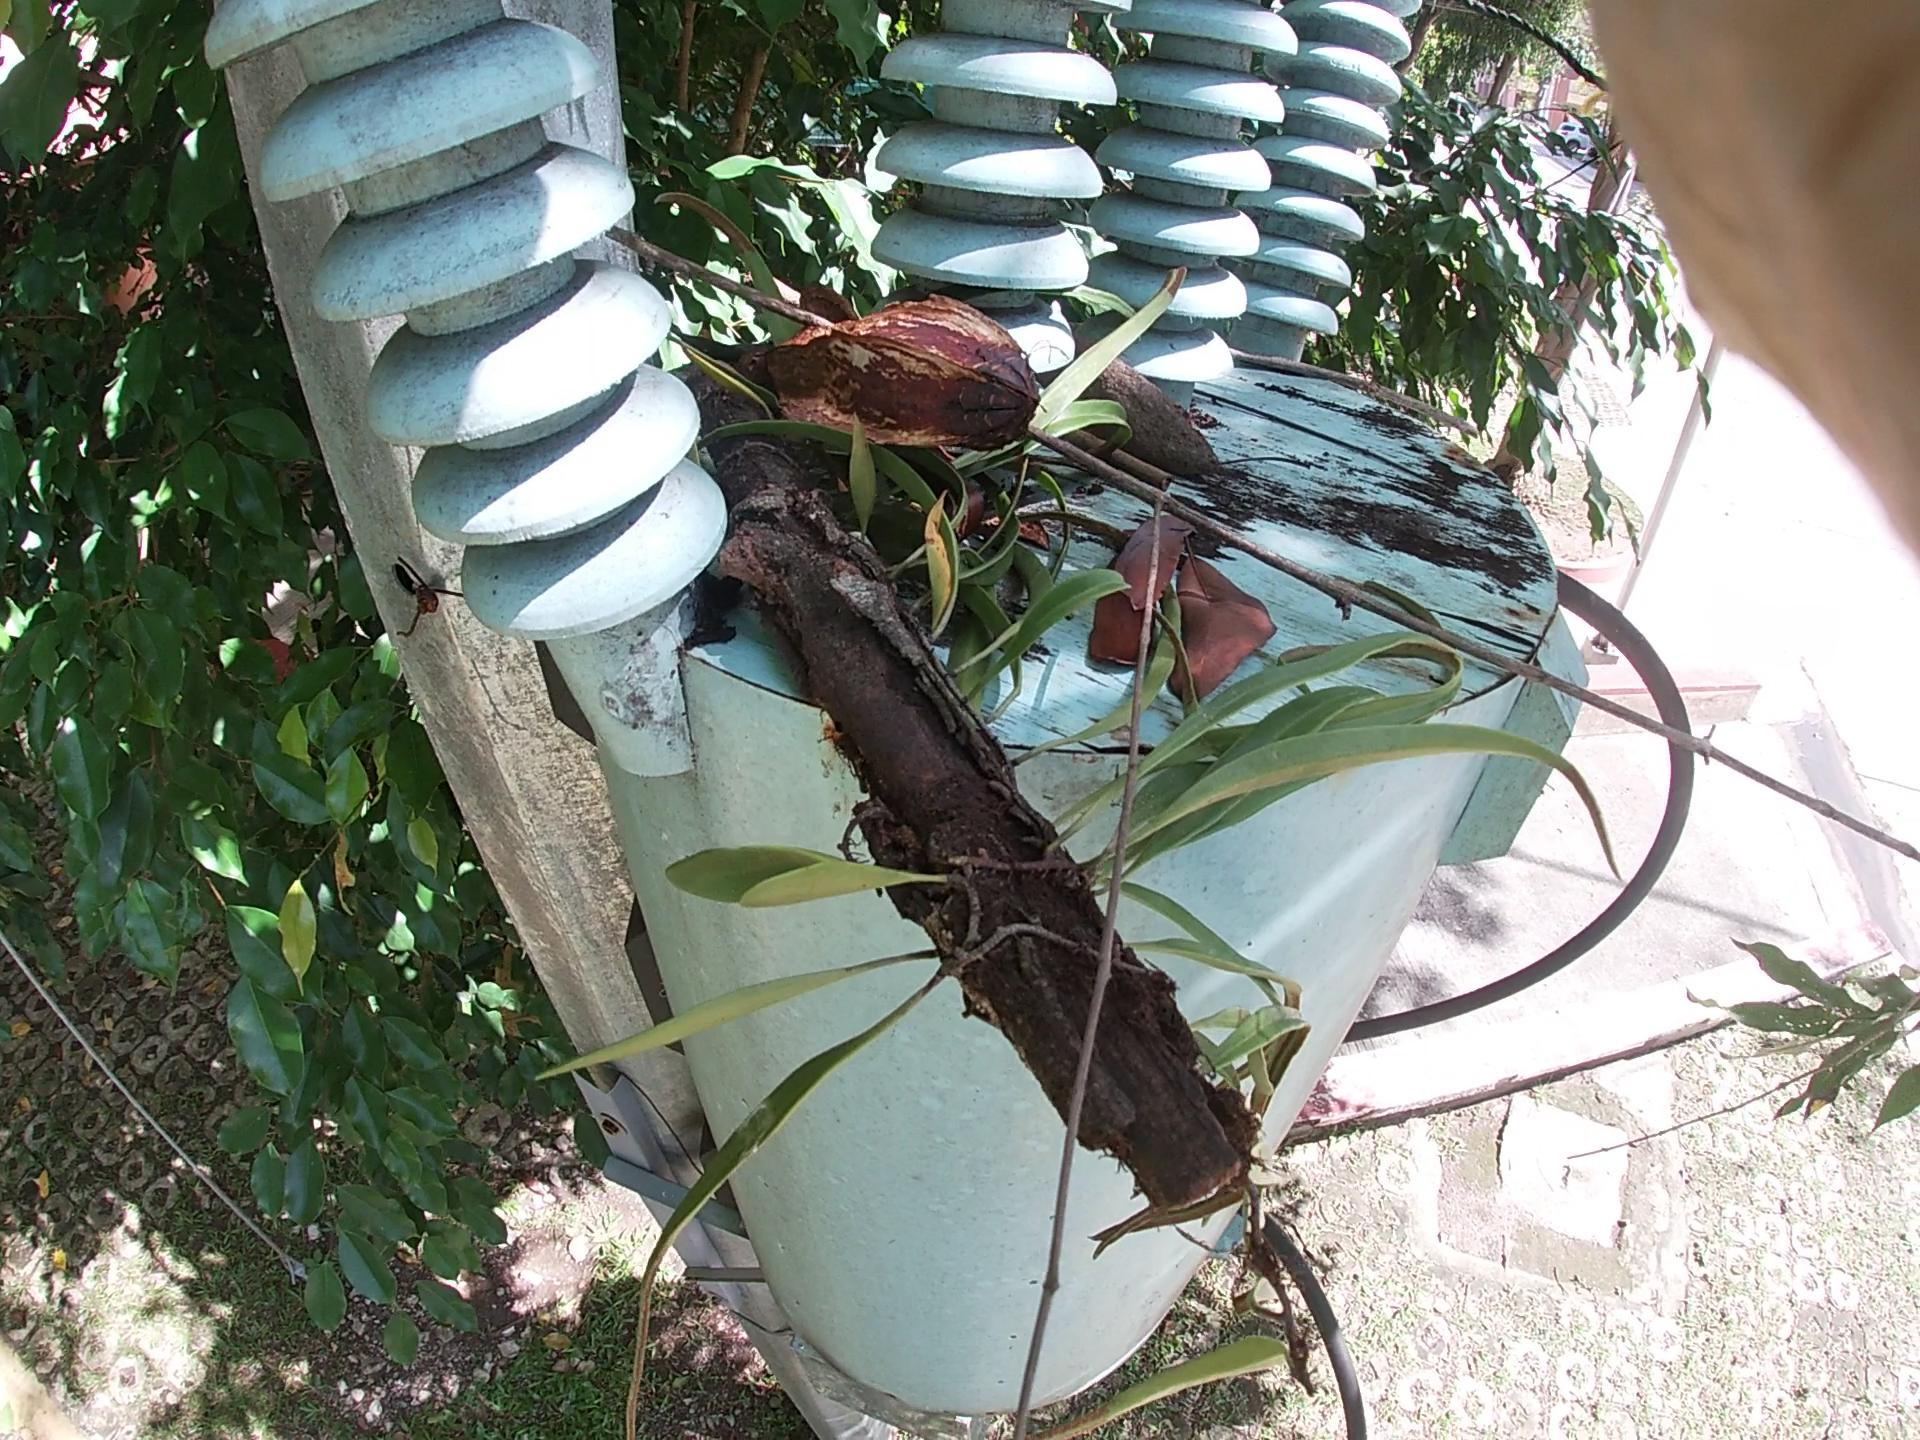branch with leaves: (665, 304, 1411, 1389)
leaf: (974, 436, 1294, 712)
mahogany fruit: (757, 277, 1037, 514), (1048, 306, 1262, 570)
tree branch: (650, 203, 1645, 764), (1268, 296, 1574, 466)
